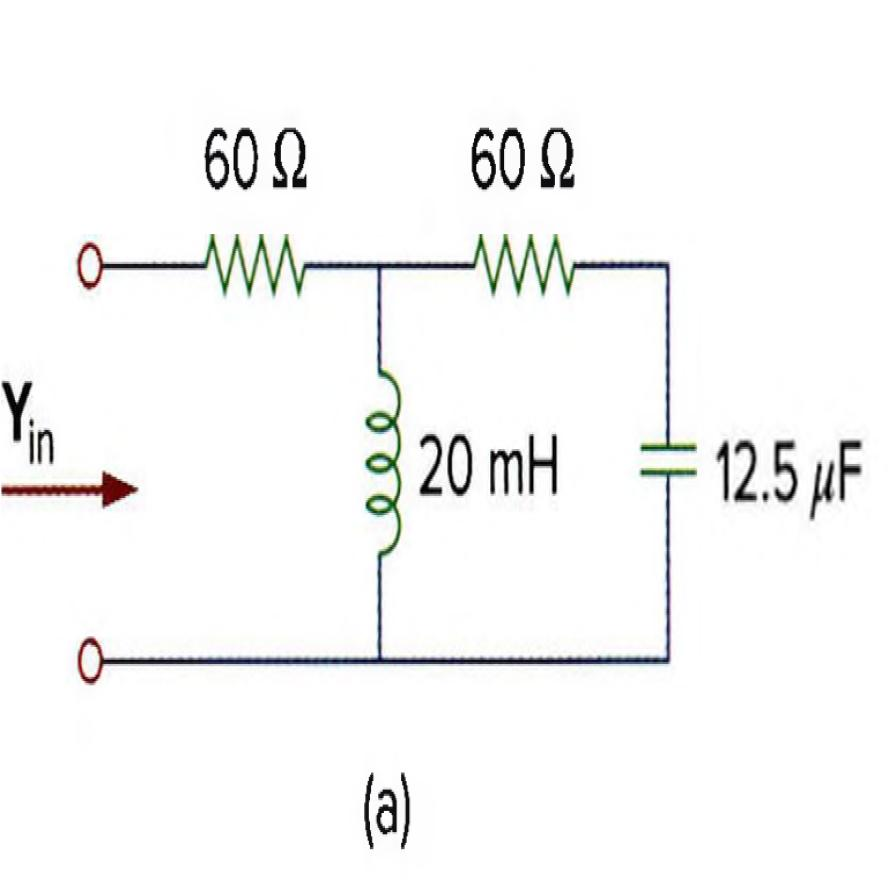C2: (635, 407, 702, 500)
L2: (356, 348, 407, 584)
